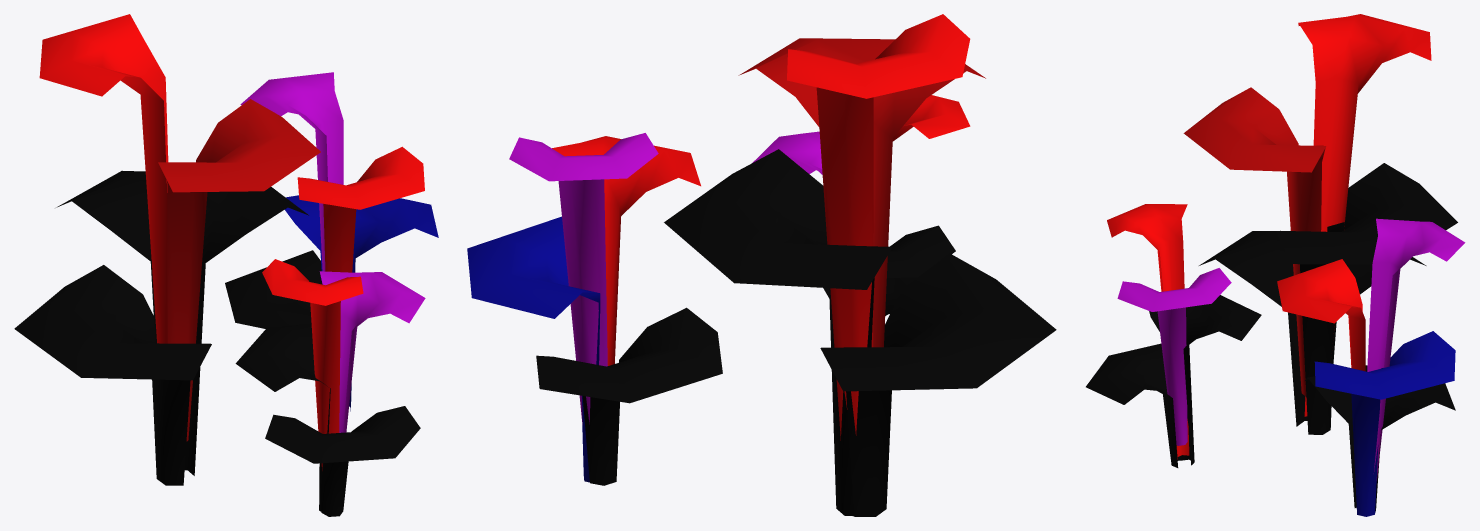
Rendered from flower_07_tulip.glb.
3 renders of one model, left to right at view 1: azimuth 30°, elevation 25°; view 2: azimuth 150°, elevation 25°; view 3: azimuth 270°, elevation 25°, orthographic. The views are drawn at different scales.
Visible parts, largest first — view 1: Flower_Petals, Flower_Leaves, Flower_Stem; view 2: Flower_Petals, Flower_Leaves, Flower_Stem; view 3: Flower_Petals, Flower_Leaves, Flower_Stem.
Boxes of the visible parts, left/top/right/bottom form: Flower_Petals: left=39, top=14, right=425, bottom=470; Flower_Leaves: left=14, top=195, right=438, bottom=516; Flower_Stem: left=56, top=170, right=308, bottom=475; Flower_Petals: left=509, top=14, right=985, bottom=440; Flower_Leaves: left=467, top=216, right=1056, bottom=516; Flower_Stem: left=664, top=149, right=893, bottom=516; Flower_Petals: left=1107, top=14, right=1465, bottom=480; Flower_Leaves: left=1086, top=231, right=1455, bottom=516; Flower_Stem: left=1276, top=163, right=1457, bottom=434.
Size of the model in its own units: 1.54 by 1.47 by 1.34.
